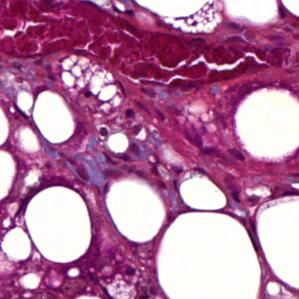steatosis: (24, 186, 93, 264), (32, 92, 76, 143), (178, 176, 231, 212)
